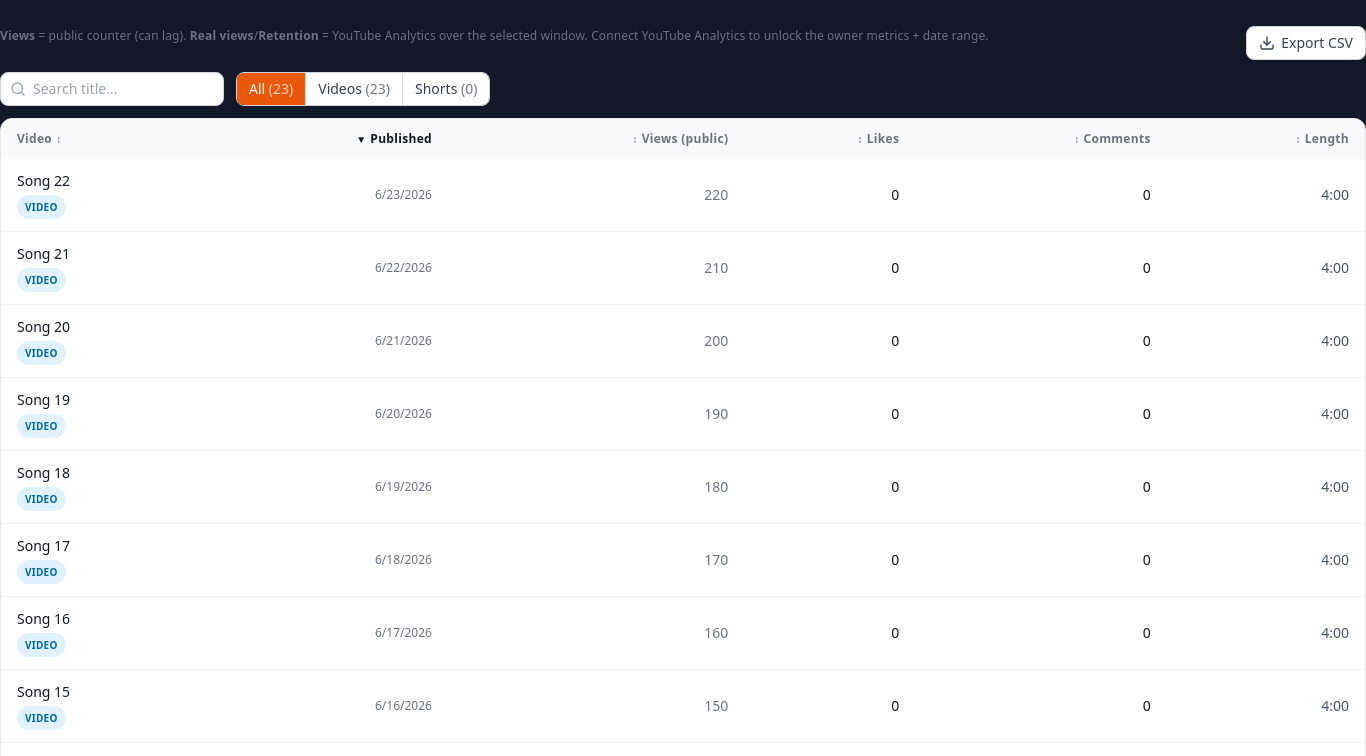
Test case: YouTubeVideosPanel › shows an empty state when filters match nothing
Type "zzz-nomatch" into the search field with placeholder "Search title…" at (112, 89), box [0,72,224,106]
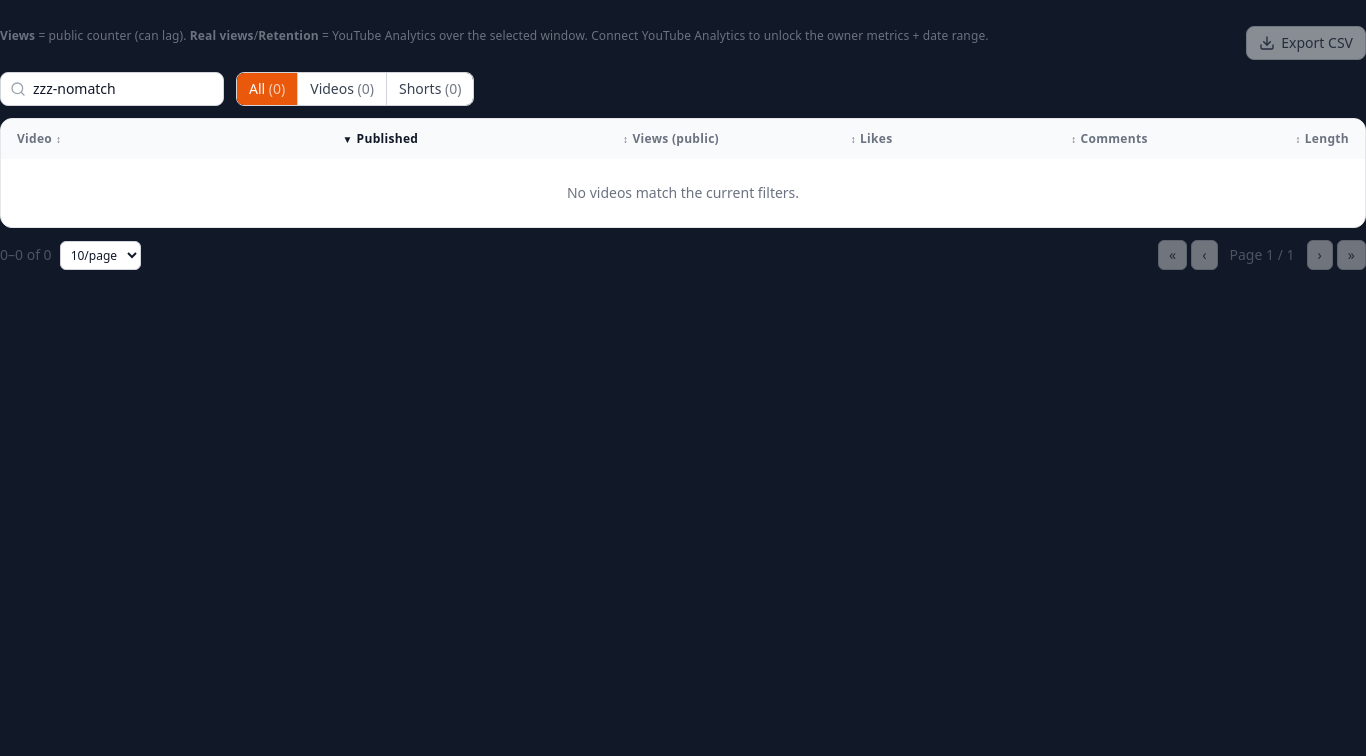
Check: the text "No videos match the current filters." is shown, box [1,159,1365,227]
